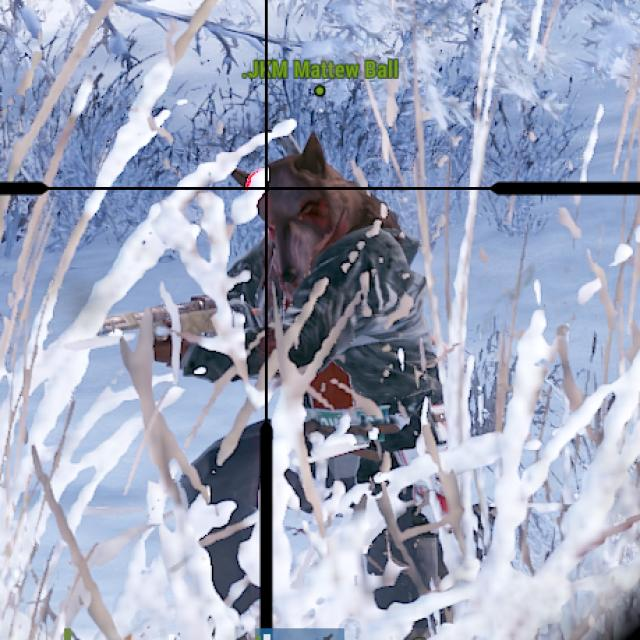Player: (182, 133, 444, 469)
